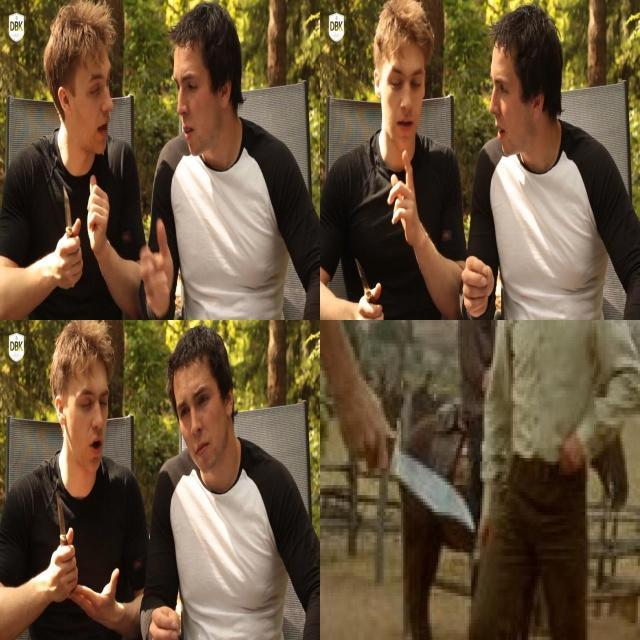-: (350, 404, 477, 532), (50, 481, 80, 577), (54, 177, 84, 270), (350, 245, 385, 319)
